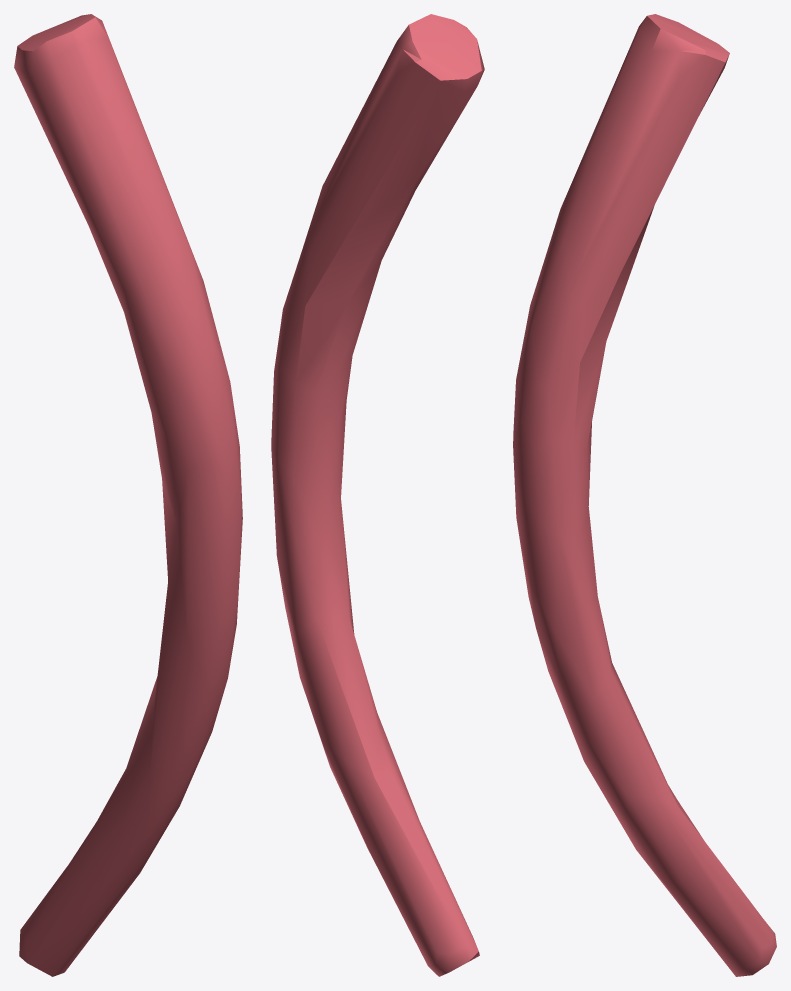
Rendered from fma68139_fj5993.glb.
The picture shows the model from 3 angles, left to right: view 1: azimuth 30°, elevation 25°; view 2: azimuth 210°, elevation 25°; view 3: azimuth 270°, elevation 25°; orthographic projection. The views are drawn at different scales.
Parts seen in each view (by area): view 1: FMA68139_FJ5993; view 2: FMA68139_FJ5993; view 3: FMA68139_FJ5993.
Boxes of the visible parts, x1,y1,x2,y2 form: FMA68139_FJ5993: [14, 14, 242, 976]; FMA68139_FJ5993: [271, 14, 484, 976]; FMA68139_FJ5993: [513, 14, 776, 976].
Size of the model in its own units: 0.00573 by 0.0353 by 0.00895.
